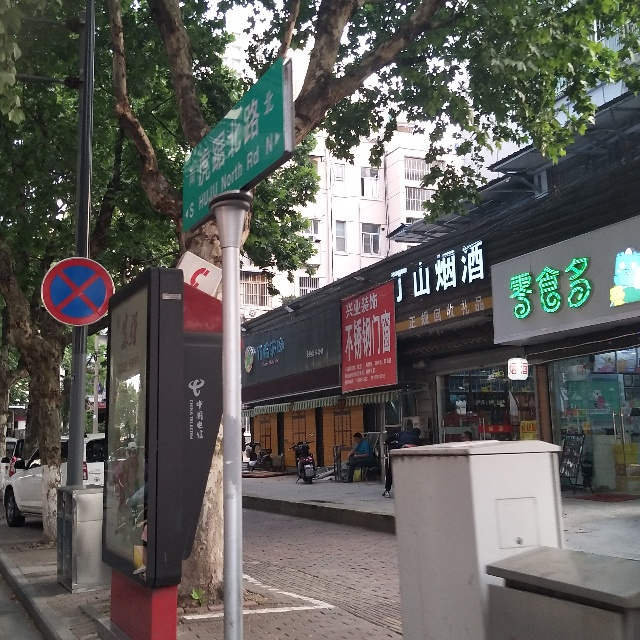stop: (45, 263, 112, 318)
